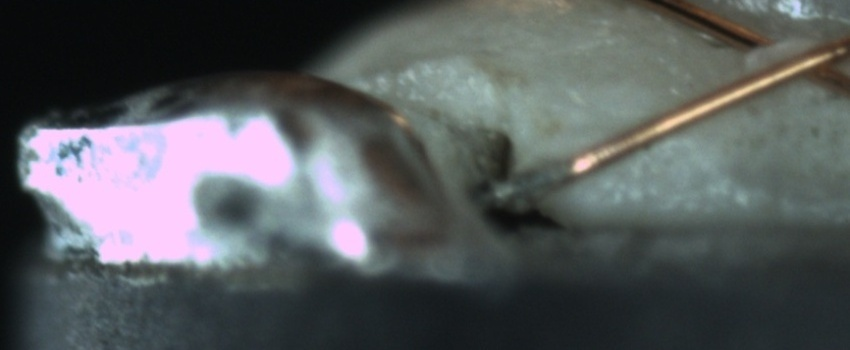CL: (728, 0, 850, 98)
TS: (479, 162, 561, 208)
